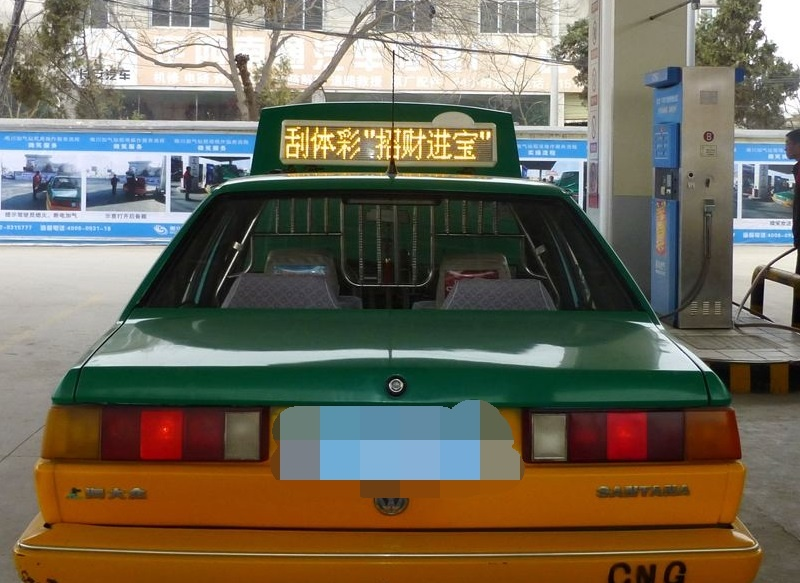taxi: (23, 103, 780, 583)
